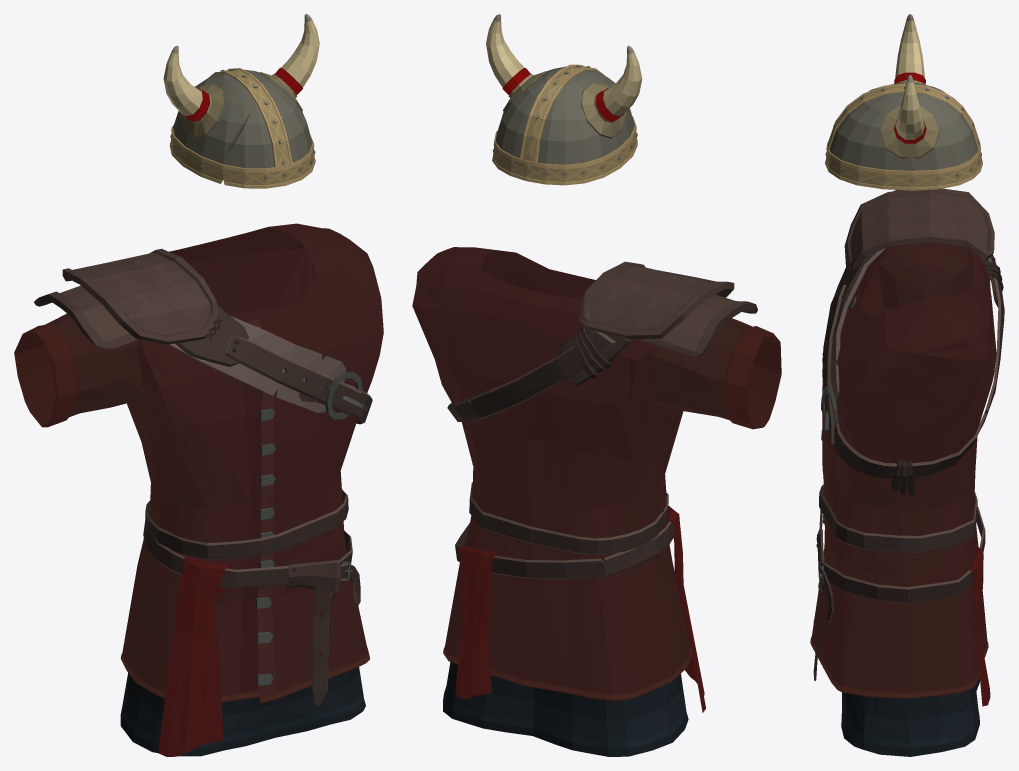
The model's file is vikingArmorPieces.glb.
3 views of the same model, side by side, from view 1: azimuth 30°, elevation 25°; view 2: azimuth 150°, elevation 25°; view 3: azimuth 270°, elevation 25° (orthographic). The views are drawn at different scales.
Visible parts, largest first — view 1: vikingArmorBody, vikingHelmet, vikingArmorShirtUpperArm; view 2: vikingArmorBody, vikingHelmet, vikingArmorShirtUpperArm; view 3: vikingArmorBody, vikingHelmet, vikingArmorShirtUpperArm.
Boxes of the visible parts, box(x1,y1,x2,y2) form: vikingArmorBody: box(34, 223, 383, 756); vikingHelmet: box(163, 14, 319, 188); vikingArmorShirtUpperArm: box(14, 313, 144, 427); vikingArmorBody: box(412, 247, 757, 756); vikingHelmet: box(486, 14, 642, 185); vikingArmorShirtUpperArm: box(645, 318, 781, 429); vikingArmorBody: box(810, 188, 1004, 756); vikingHelmet: box(825, 14, 982, 190); vikingArmorShirtUpperArm: box(878, 242, 968, 310).
Size of the model in its own units: 0.7688 by 1.51 by 0.4007.
